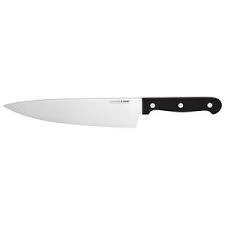Knife: (2, 96, 222, 128)
